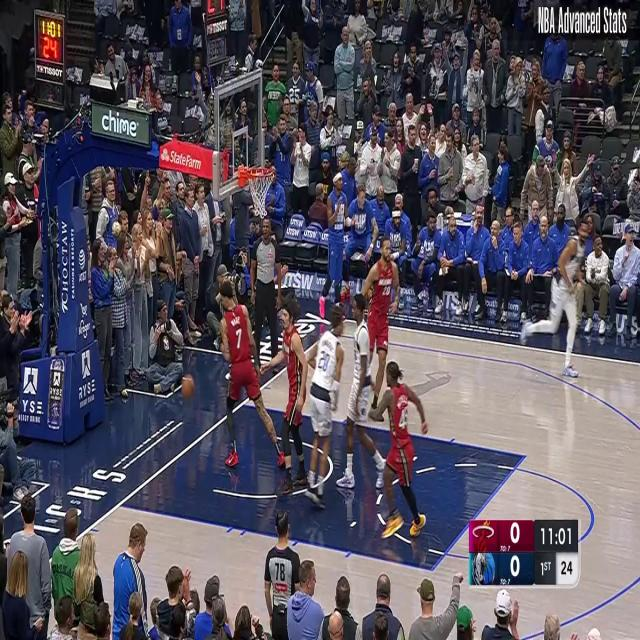ball: (180, 369, 198, 403)
judge: (250, 217, 282, 366), (265, 526, 302, 628)
player: (219, 283, 285, 494), (523, 219, 591, 376), (370, 366, 426, 540), (343, 294, 387, 501), (308, 300, 344, 503), (360, 243, 398, 427), (276, 303, 306, 496)
